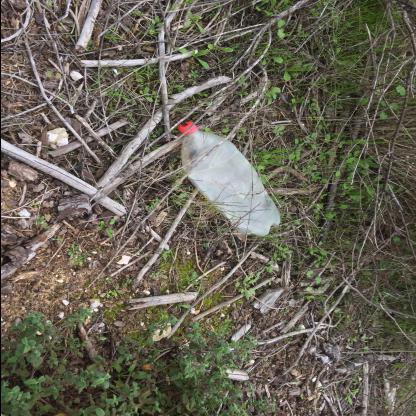plastik: (176, 120, 281, 238)
